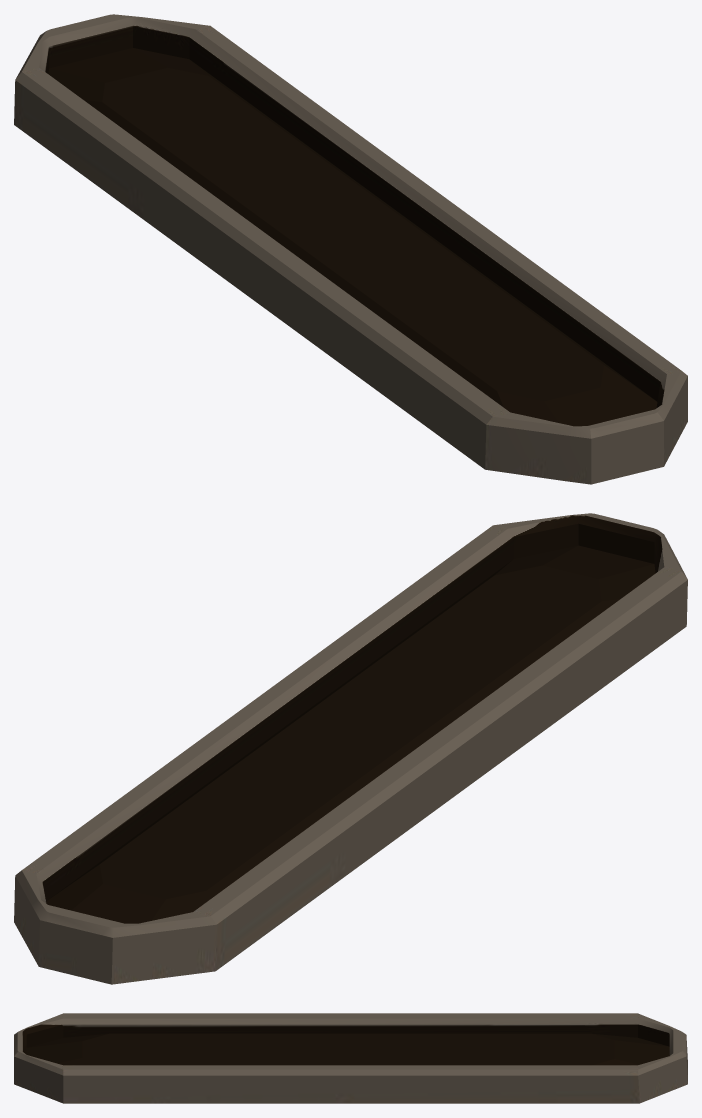
File: Road Island.FBX
3 views of the same model, one above another, from view 1: azimuth 30°, elevation 25°; view 2: azimuth 150°, elevation 25°; view 3: azimuth 270°, elevation 25° (orthographic). The views are drawn at different scales.
Parts seen in each view (by area): view 1: Road Island; view 2: Road Island; view 3: Road Island.
Boxes of the visible parts, x1,y1,x2,y2 form: Road Island: (14, 14, 687, 484); Road Island: (14, 513, 687, 984); Road Island: (14, 1013, 687, 1103).
Bounding box in the file's own units: 204 × 50.91 × 971.
